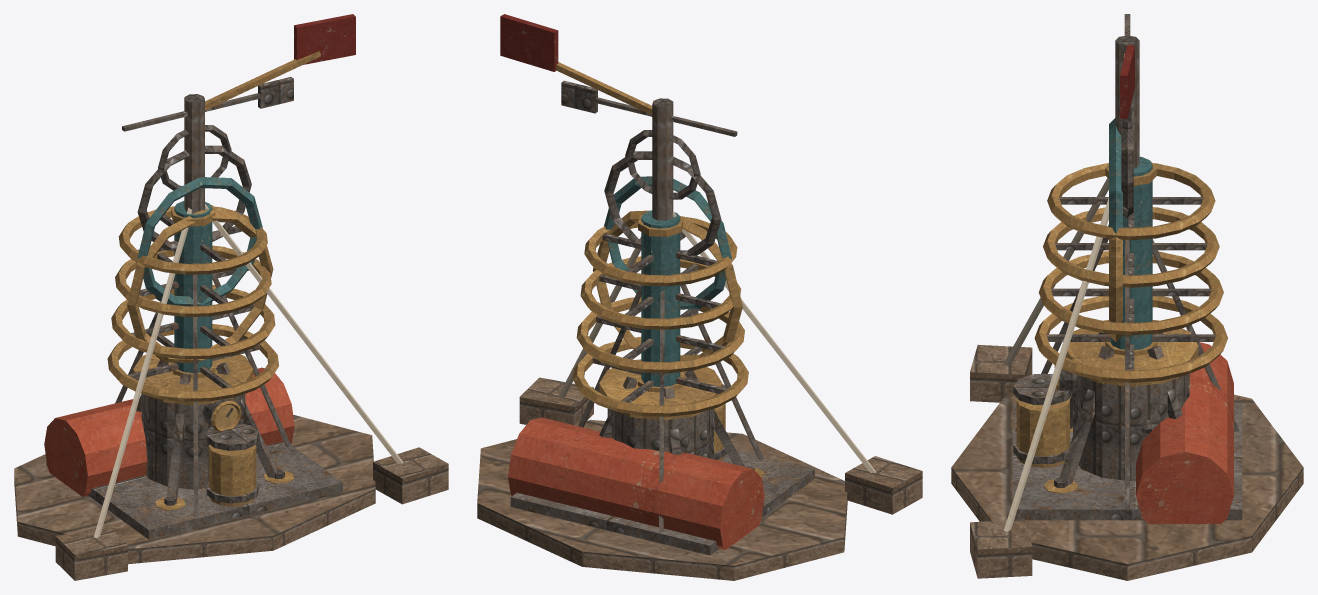
File: center-wind-anchor.glb
3 views of the same model, side by side, from view 1: azimuth 30°, elevation 25°; view 2: azimuth 150°, elevation 25°; view 3: azimuth 270°, elevation 25° (orthographic). The views are drawn at different scales.
Parts seen in each view (by area): view 1: center-wind-anchor; view 2: center-wind-anchor; view 3: center-wind-anchor.
Boxes of the visible parts, x1,y1,x2,y2 form: center-wind-anchor: (14, 14, 448, 580); center-wind-anchor: (477, 14, 922, 580); center-wind-anchor: (951, 14, 1303, 580).
Bounding box in the file's own units: 6.33 × 7.13 × 4.6.
1 material, 1 textured.
